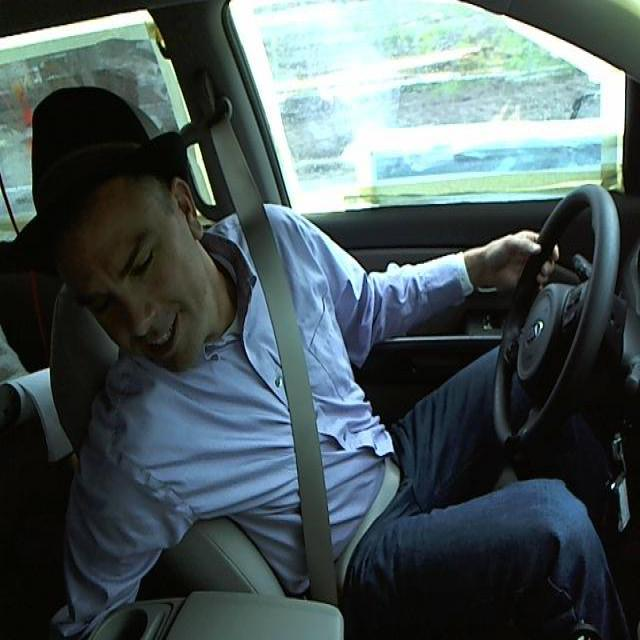seatbelt: (229, 223, 372, 588)
